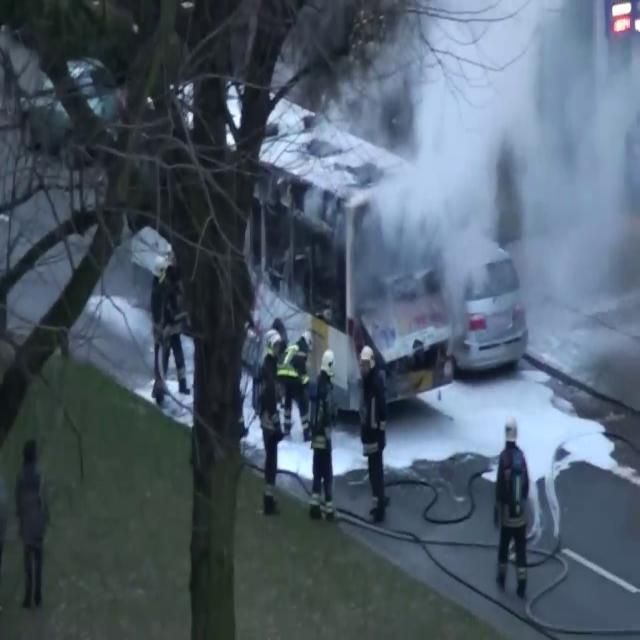Smoke: (304, 0, 640, 362)
